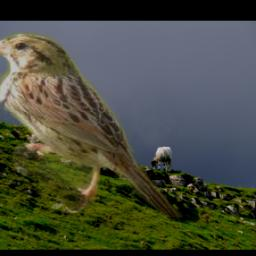Sparrow: (0, 30, 185, 218)
